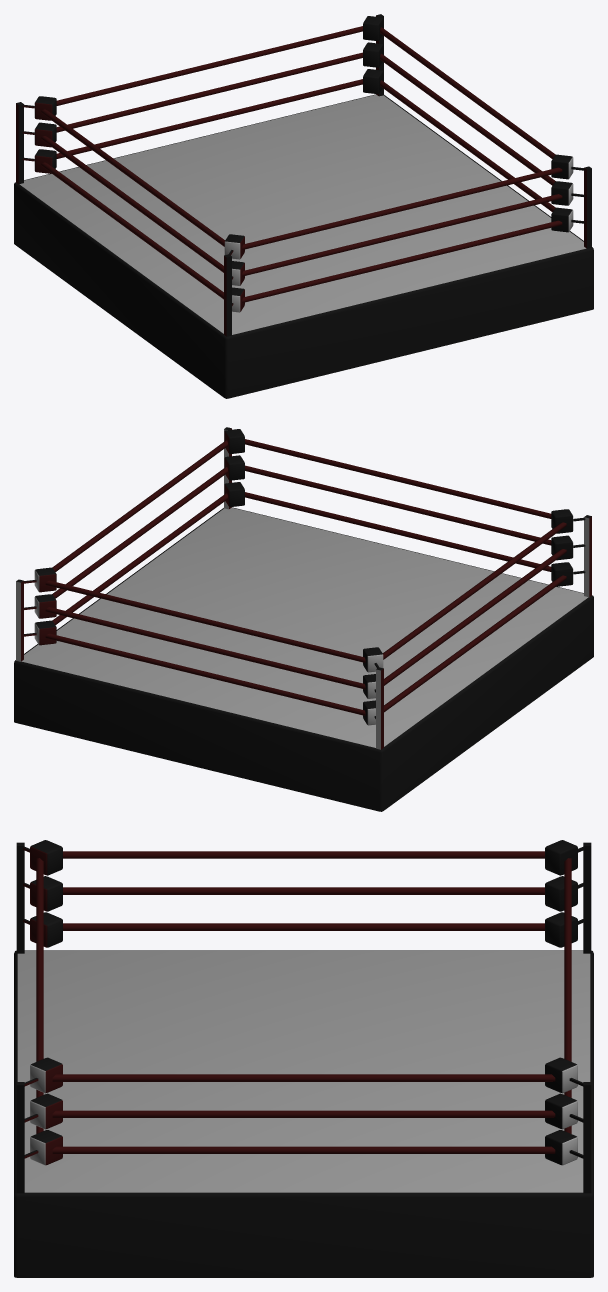
The model's file is Wrestling_Ring_Mesh.FBX.
The picture shows the model from 3 angles, top to bottom: view 1: azimuth 30°, elevation 25°; view 2: azimuth 150°, elevation 25°; view 3: azimuth 270°, elevation 25°; orthographic projection. The views are drawn at different scales.
Parts seen in each view (by area): view 1: Wrestling_Ring_Mesh; view 2: Wrestling_Ring_Mesh; view 3: Wrestling_Ring_Mesh.
Part boxes in pixels (x1,y1,x2,y2): Wrestling_Ring_Mesh: (14, 14, 593, 398); Wrestling_Ring_Mesh: (14, 427, 593, 811); Wrestling_Ring_Mesh: (14, 840, 593, 1277).
Size of what is drawn, in the model's own units: 670 by 670 by 255.
